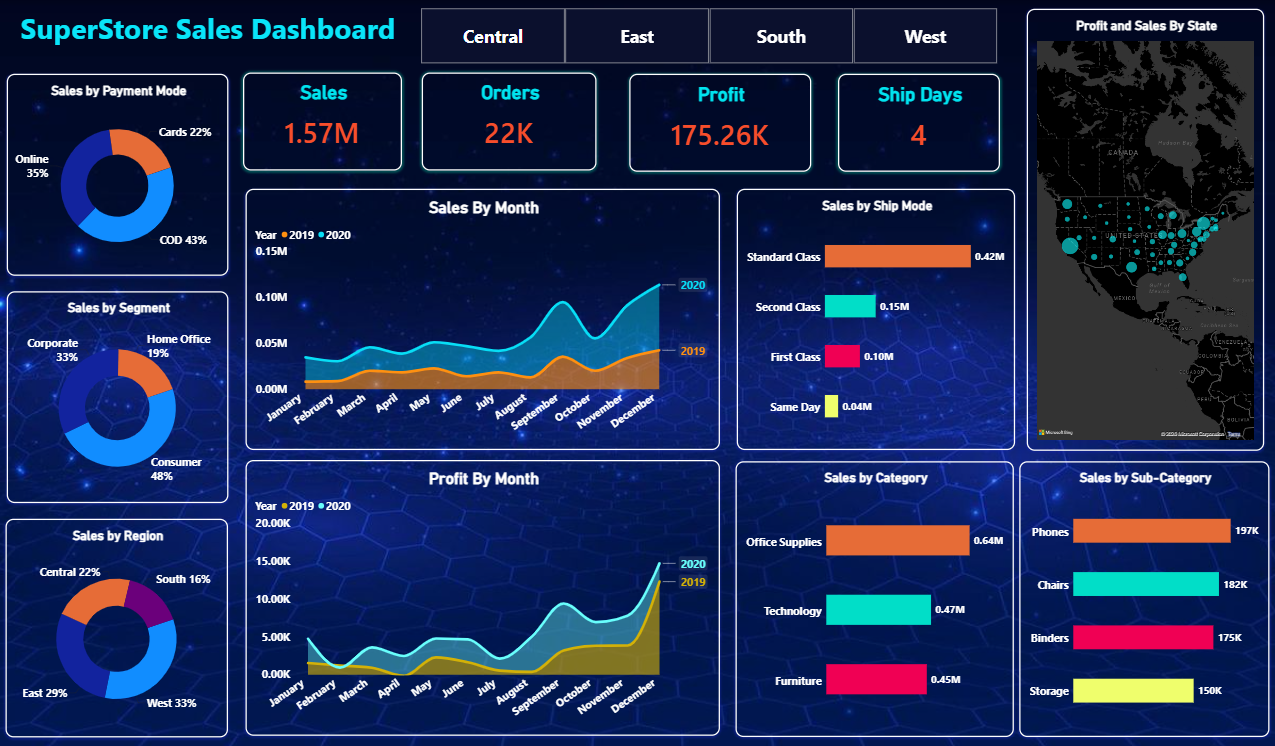

The page's visual inventory and layout, read from the dashboard file:
{"tool":"powerbi","page":{"name":"Page 1","canvas":[2400,1400],"ordinal":0},"visuals":[{"type":"clusteredBarChart","title":"Sales by Category","fields":{"Category":["SuperStore_Sales_Dataset.Category"],"Y":["Sum(SuperStore_Sales_Dataset.Sales)"]},"box":[1385,865,522.7,517.3],"z":0},{"type":"clusteredBarChart","title":"Sales by Sub-Category","fields":{"Category":["SuperStore_Sales_Dataset.Sub-Category"],"Y":["Sum(SuperStore_Sales_Dataset.Sales)"]},"box":[1917.5,865,469.3,517.3],"z":1000},{"type":"clusteredBarChart","title":"Sales by Ship Mode","fields":{"Category":["SuperStore_Sales_Dataset.Ship Mode"],"Y":["Sum(SuperStore_Sales_Dataset.Sales)"]},"box":[1386.7,354.7,522.7,490.7],"z":2000},{"type":"stackedAreaChart","title":"Sales By Month","fields":{"Category":["SuperStore_Sales_Dataset.Order Date.Variation.Date Hierarchy.Month"],"Series":["SuperStore_Sales_Dataset.Order Date.Variation.Date Hierarchy.Year"],"Y":["Sum(SuperStore_Sales_Dataset.Sales)"]},"box":[464,354.7,890.7,490.7],"z":3000},{"type":"stackedAreaChart","title":"Profit By Month","fields":{"Category":["SuperStore_Sales_Dataset.Order Date.Variation.Date Hierarchy.Month"],"Series":["SuperStore_Sales_Dataset.Order Date.Variation.Date Hierarchy.Year"],"Y":["Sum(SuperStore_Sales_Dataset.Profit)"]},"box":[464,864,890.7,517.3],"z":4000},{"type":"map","title":"Profit and Sales By State","fields":{"Category":["SuperStore_Sales_Dataset.State"],"Size":["Sum(SuperStore_Sales_Dataset.Sales)"]},"box":[1930.7,16,445.3,829.3],"z":5000},{"type":"donutChart","title":"Sales by Segment","fields":{"Category":["SuperStore_Sales_Dataset.Segment"],"Y":["Sum(SuperStore_Sales_Dataset.Sales)"]},"box":[16,546.7,416,397.3],"z":6000},{"type":"cardVisual","title":"Sales","fields":{"Data":["Sum(SuperStore_Sales_Dataset.Sales)"]},"box":[458.7,136,298.7,184],"z":7000},{"type":"cardVisual","title":"Orders","fields":{"Data":["Sum(SuperStore_Sales_Dataset.Quantity)"]},"box":[794.7,136,328,184],"z":8000},{"type":"cardVisual","title":"Profit","fields":{"Data":["Sum(SuperStore_Sales_Dataset.Profit)"]},"box":[1184,138.7,341.3,184],"z":9000},{"type":"cardVisual","title":"Ship Days","fields":{"Data":["Avg(SuperStore_Sales_Dataset.AvgDelivery)"]},"box":[1576,138.7,304,184],"z":10000},{"type":"donutChart","title":"Sales by Payment Mode","fields":{"Category":["SuperStore_Sales_Dataset.Payment Mode"],"Y":["Sum(SuperStore_Sales_Dataset.Sales)"]},"box":[16,138.7,416,379.3],"z":11000},{"type":"donutChart","title":"Sales by Region","fields":{"Category":["SuperStore_Sales_Dataset.Region"],"Y":["Sum(SuperStore_Sales_Dataset.Sales)"]},"box":[15,972.5,417.5,410],"z":12000},{"type":"slicer","fields":{"Values":["SuperStore_Sales_Dataset.Region"]},"box":[757.3,0,1152,136],"z":13000},{"type":"textbox","box":[42.7,16,830.6,97.1],"z":14000}]}

Visuals, with their boxes in screenshot pixels (x1, y1, x2, y2), scaled from the page's 2400x1400 canvas onto the 1275x746 screenshot:
"Sales by Category" clusteredBarChart: l=736, t=461, r=1013, b=737
"Sales by Sub-Category" clusteredBarChart: l=1019, t=461, r=1268, b=737
"Sales by Ship Mode" clusteredBarChart: l=737, t=189, r=1014, b=450
"Sales By Month" stackedAreaChart: l=246, t=189, r=720, b=450
"Profit By Month" stackedAreaChart: l=246, t=460, r=720, b=736
"Profit and Sales By State" map: l=1026, t=9, r=1262, b=450
"Sales by Segment" donutChart: l=8, t=291, r=230, b=503
"Sales" cardVisual: l=244, t=72, r=402, b=171
"Orders" cardVisual: l=422, t=72, r=596, b=171
"Profit" cardVisual: l=629, t=74, r=810, b=172
"Ship Days" cardVisual: l=837, t=74, r=999, b=172
"Sales by Payment Mode" donutChart: l=8, t=74, r=230, b=276
"Sales by Region" donutChart: l=8, t=518, r=230, b=737
slicer - SuperStore_Sales_Dataset.Region: l=402, t=0, r=1014, b=72
textbox: l=23, t=9, r=464, b=60
